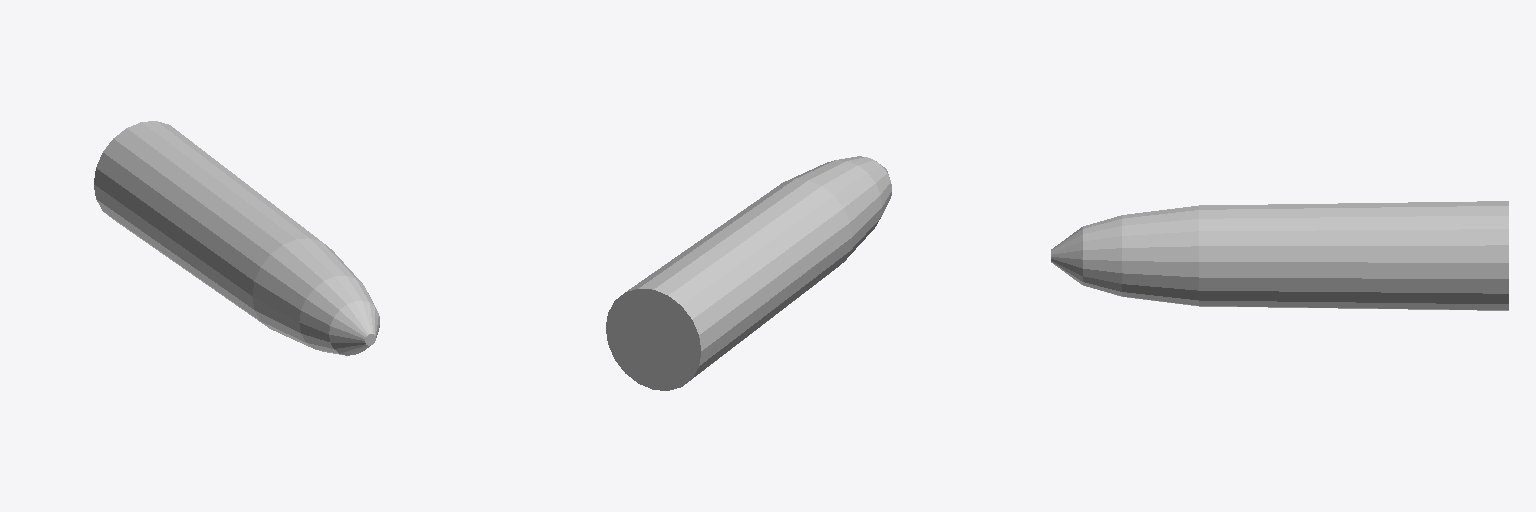
The model's file is SimpleBullet.obj.
The picture shows the model from 3 angles: view 1: azimuth 30°, elevation 25°; view 2: azimuth 150°, elevation 25°; view 3: azimuth 270°, elevation 25°; orthographic projection.
Parts seen in each view (by area): view 1: SimpleBullet; view 2: SimpleBullet; view 3: SimpleBullet.
Part boxes in pixels (x1,y1,x2,y2): SimpleBullet: (94,121,379,355); SimpleBullet: (606,156,891,390); SimpleBullet: (1051,201,1508,310).
Bounding box in the file's own units: 1.55 × 1.55 × 6.42.